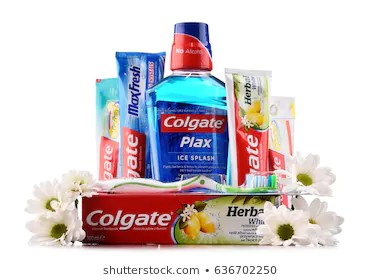colgate-Plax: (152, 21, 230, 192)
colgate-medium: (75, 191, 288, 248)
